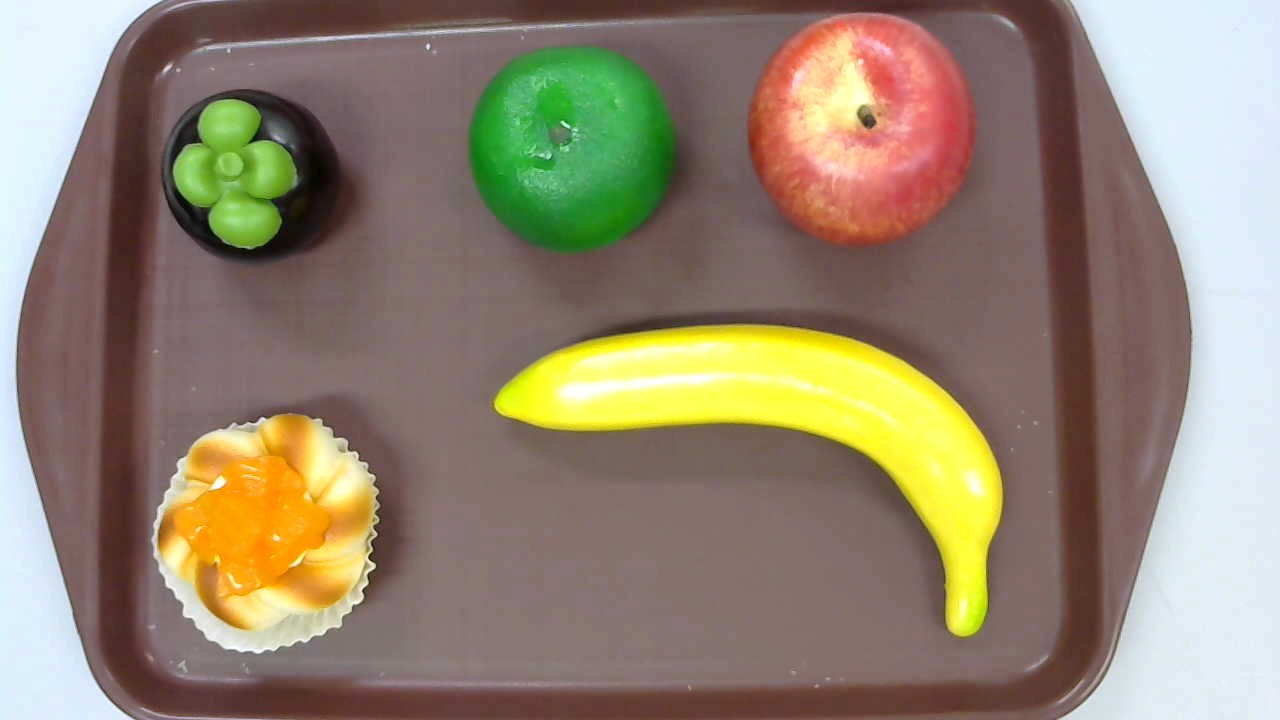banana: (493, 323, 1004, 637)
green orange: (470, 46, 674, 253)
mango tart: (150, 413, 380, 654)
mangosteen: (160, 88, 339, 266)
red apple: (747, 11, 976, 247)
